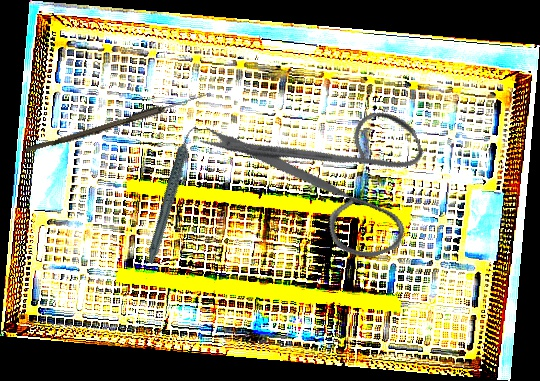Handpiece: (121, 124, 224, 265)
Iris Scissors: (195, 55, 453, 302)
Surgical Spoon: (25, 88, 212, 157)
